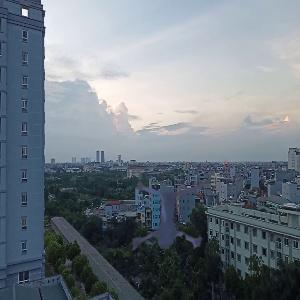drone: (100, 159, 234, 293)
